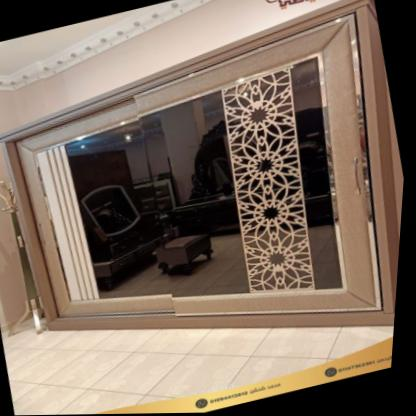Closet: (0, 0, 406, 333)
